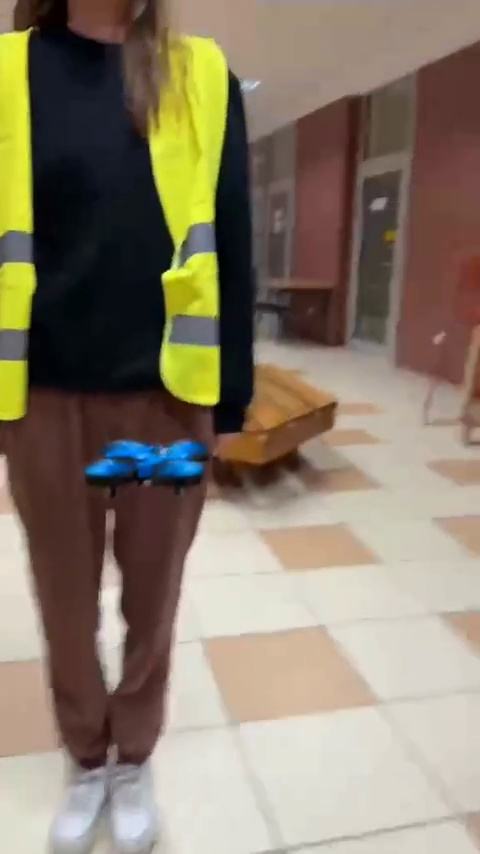drone: (81, 439, 212, 497)
vest: (0, 64, 253, 848)
